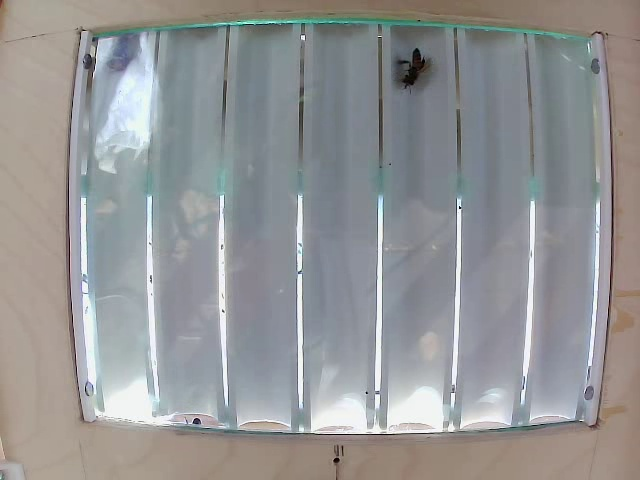bee: (399, 43, 431, 97), (107, 38, 145, 70)
